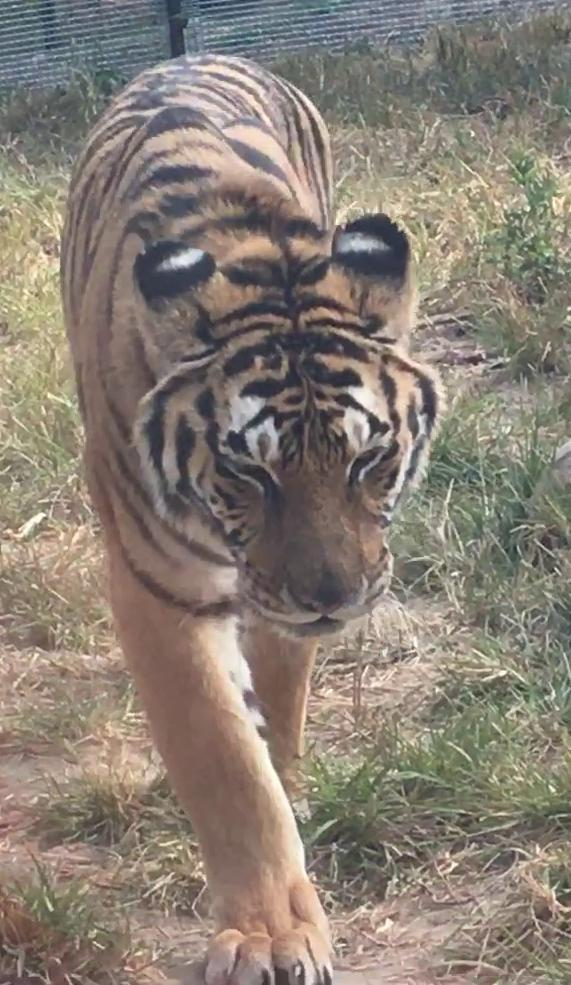tiger: (62, 54, 438, 984)
